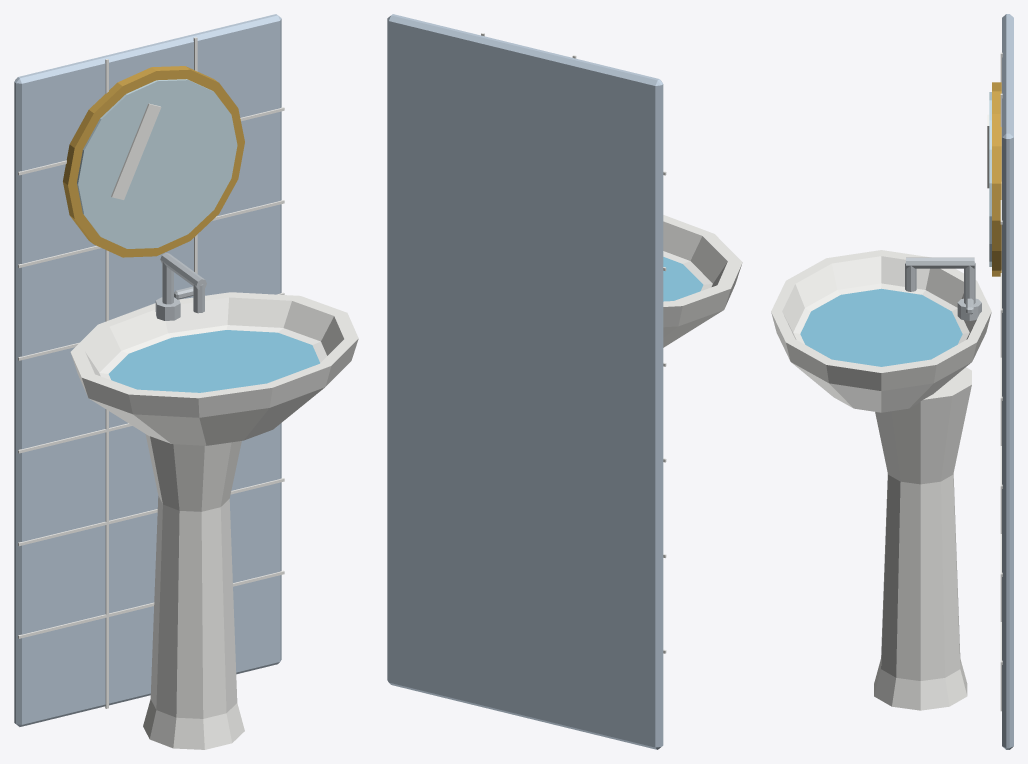
File: sink.glb
3 views of the same model, side by side, from view 1: azimuth 30°, elevation 25°; view 2: azimuth 150°, elevation 25°; view 3: azimuth 270°, elevation 25° (orthographic). The views are drawn at different scales.
Parts seen in each view (by area): view 1: sink_Body; view 2: sink_Body; view 3: sink_Body.
Part boxes in pixels (<box>): sink_Body: <box>14,14,358,749</box>; sink_Body: <box>387,14,742,749</box>; sink_Body: <box>771,14,1013,749</box>.
Size of the model in its own units: 0.6 by 1.4 by 0.5.
